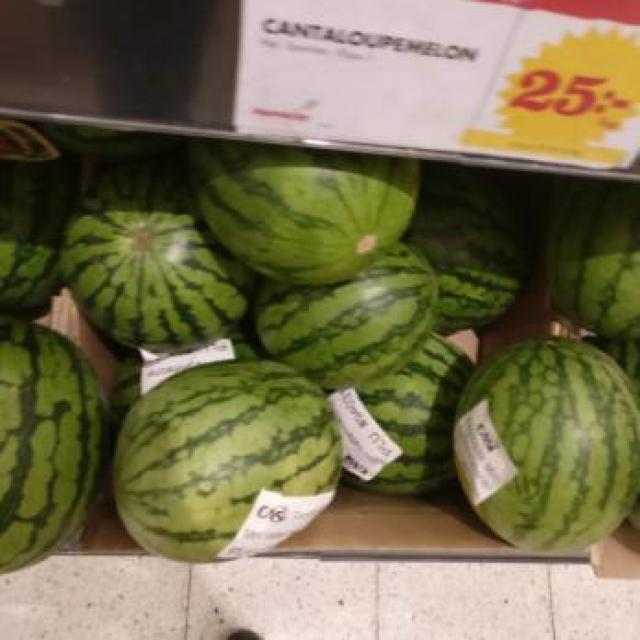Watermelon: (110, 352, 342, 569), (55, 140, 261, 350), (460, 335, 638, 555), (193, 133, 437, 280), (232, 230, 458, 379), (0, 322, 108, 577), (550, 186, 638, 340)
